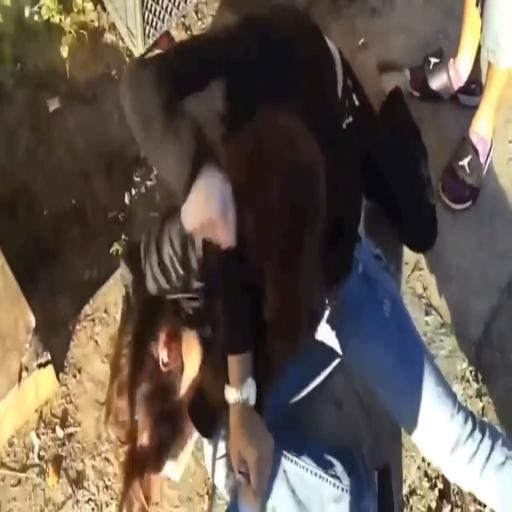violencia: (96, 0, 448, 512)
